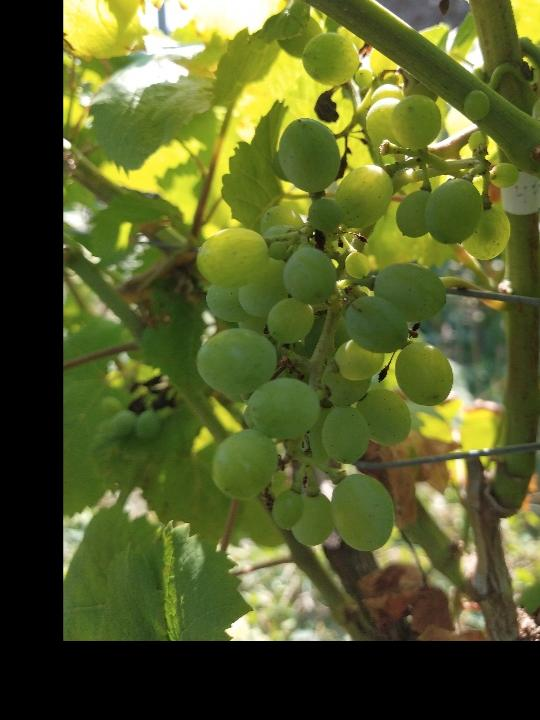grape: (193, 13, 513, 556)
